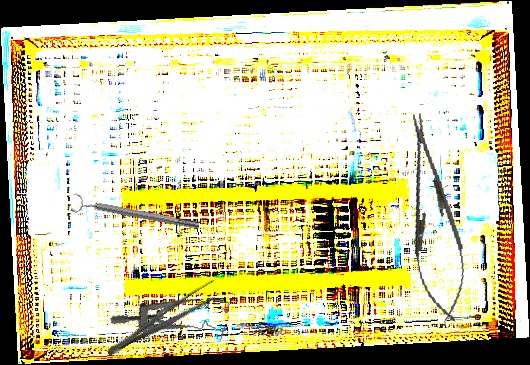Dressing Forceps: (102, 276, 224, 364)
Fixation Ring: (70, 191, 201, 237)
Needle Holder: (393, 107, 475, 327)
Speculum: (108, 276, 234, 351)
